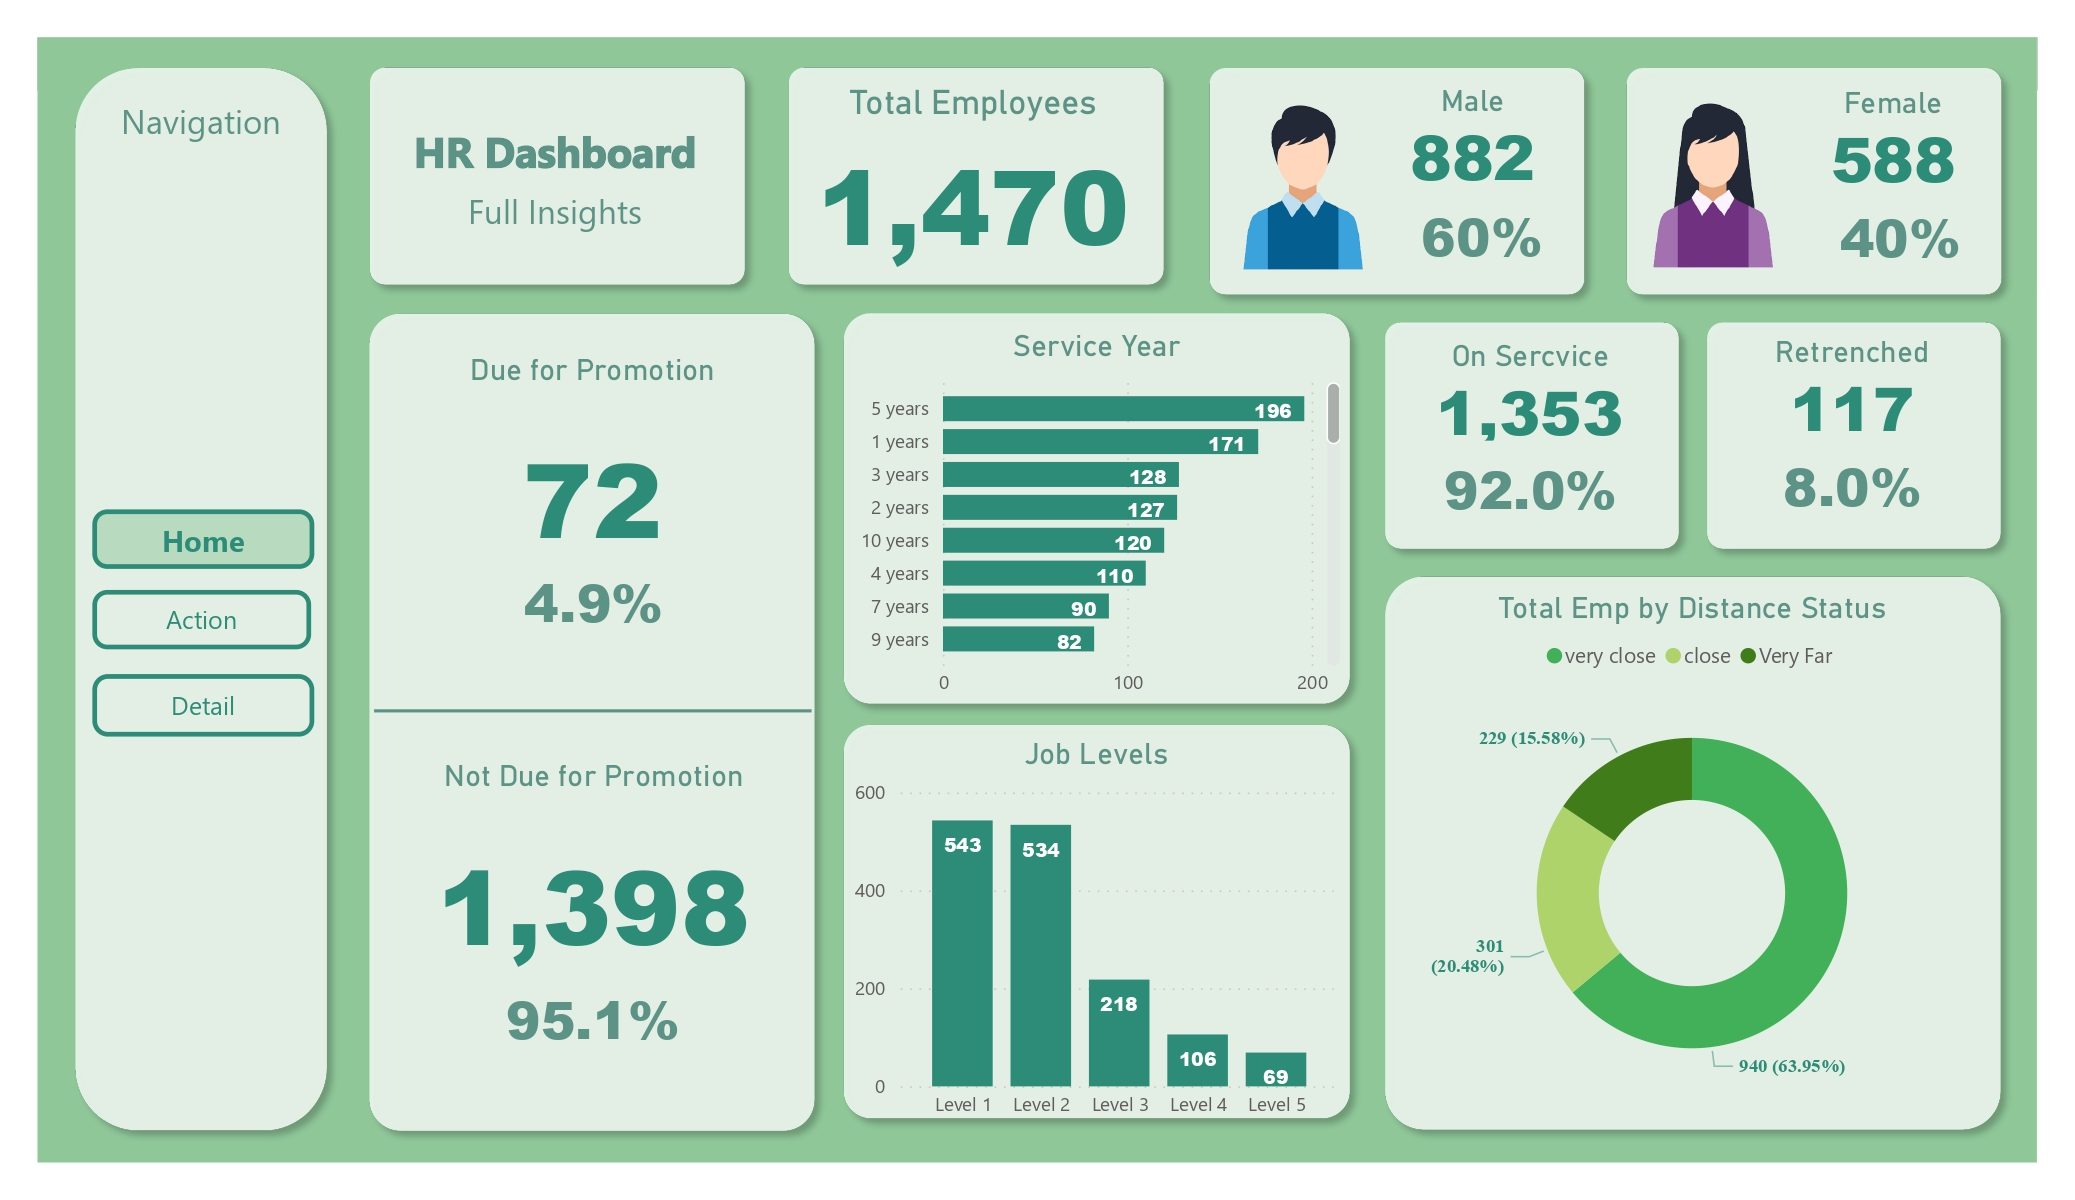

Layout of this report page (visuals, bound fields, positions):
{"tool":"powerbi","page":{"name":"Home","canvas":[1280,720],"ordinal":0},"visuals":[{"type":"shape","box":[15.2,10.5,179.1,697.8],"z":0},{"type":"shape","box":[203.7,10.5,257.6,156.9],"z":1000},{"type":"shape","box":[471.8,10.5,257.6,156.9],"z":2000},{"type":"shape","box":[741.1,10.5,257.6,162.7],"z":3000},{"type":"shape","box":[1008,10.5,257.6,162.7],"z":4000},{"type":"shape","box":[203.7,167.4,303.2,540.9],"z":5000},{"type":"shape","box":[506.9,167.4,341.9,268.1],"z":6000},{"type":"shape","box":[507.4,430.4,341.9,270.4],"z":7000},{"type":"shape","box":[853.5,173.3,206,162.7],"z":8000},{"type":"shape","box":[853.5,336,412.1,372.3],"z":9000},{"type":"shape","box":[1059.5,173.3,206,162.7],"z":10000},{"type":"textbox","box":[215.4,49.2,231.8,51.5],"z":11000},{"type":"textbox","box":[215.4,91.3,231.8,44.5],"z":12000},{"type":"card","title":"Total Employees","fields":{"Values":["All Measures.Total Emp"]},"box":[484.7,29.3,228.3,124.1],"z":13000},{"type":"card","title":"Male","fields":{"Values":["All Measures.Male"]},"box":[853.5,29.3,130,71.4],"z":14000},{"type":"card","title":"Male","fields":{"Values":["All Measures.% male"]},"box":[869.9,100.7,108.9,52.7],"z":15000},{"type":"card","title":"Female","fields":{"Values":["All Measures.Female"]},"box":[1122.9,30.8,130,71.4],"z":16000},{"type":"card","title":"Male","fields":{"Values":["All Measures.% female"]},"box":[1136.8,100.7,111.2,53.9],"z":17000},{"type":"image","box":[749.3,34,120.6,120.6],"z":18000},{"type":"image","box":[1019.7,34,103,119.4],"z":19000},{"type":"card","title":"Due for Promotion","fields":{"Values":["All Measures.Due for promotions"]},"box":[215.4,201.4,279.8,158],"z":20000},{"type":"card","title":"Male","fields":{"Values":["All Measures.% Due for promotion"]},"box":[216.6,320.8,278.6,80.8],"z":21000},{"type":"card","title":"Not Due for Promotion","fields":{"Values":["All Measures.Not due"]},"box":[216.6,461.3,278.6,158],"z":22000},{"type":"card","title":"Male","fields":{"Values":["All Measures.% Not due"]},"box":[215.4,601.8,279.8,52.7],"z":23000},{"type":"shape","box":[215.4,414.4,279.8,32.8],"z":24000},{"type":"barChart","title":"Service Year","fields":{"Category":["HR Analytics Data.Service year"],"Y":["All Measures.Total Emp"]},"box":[517.5,186.1,320.8,244.7],"z":25000},{"type":"columnChart","title":"Job Levels","fields":{"Y":["All Measures.Total Emp"],"Category":["HR Analytics Data.Job Levels"]},"box":[517.5,447.2,320.8,254],"z":26000},{"type":"card","title":"On Sercvice","fields":{"Values":["All Measures.On Service"]},"box":[865.2,192,180.3,71.4],"z":27000},{"type":"card","title":"Male","fields":{"Values":["All Measures.% On service"]},"box":[865.2,262.2,181.5,53.9],"z":28000},{"type":"card","title":"Retrenched","fields":{"Values":["All Measures.Will be Retrenched"]},"box":[1070.9,189.8,180.3,71.4],"z":29000},{"type":"card","title":"Male","fields":{"Values":["All Measures.% Will be Retrenched"]},"box":[1070.9,260.1,181.5,53.9],"z":30000},{"type":"donutChart","fields":{"Category":["HR Analytics Data.Distance Status"],"Y":["All Measures.Total Emp"]},"box":[869.9,353.6,378.1,337.2],"z":31000},{"type":"textbox","box":[34,34,141.7,41],"z":32000},{"type":"actionButton","box":[34.7,302.1,142.4,38.4],"z":33000},{"type":"actionButton","box":[34.7,354,139.9,38.4],"z":34000},{"type":"actionButton","box":[34.7,407.3,142.4,39.6],"z":35000}]}

Visuals, with their boxes on the page's 1280x720 design canvas (x1, y1, x2, y2). These are canvas units, not pixel positions in the 2075x1200 screenshot, which may show the page scaled, cropped or inside an application window:
shape: (15,10,194,708)
shape: (204,10,461,167)
shape: (472,10,729,167)
shape: (741,10,999,173)
shape: (1008,10,1266,173)
shape: (204,167,507,708)
shape: (507,167,849,436)
shape: (507,430,849,701)
shape: (854,173,1060,336)
shape: (854,336,1266,708)
shape: (1060,173,1266,336)
textbox: (215,49,447,101)
textbox: (215,91,447,136)
"Total Employees" card: (485,29,713,153)
"Male" card: (854,29,984,101)
"Male" card: (870,101,979,153)
"Female" card: (1123,31,1253,102)
"Male" card: (1137,101,1248,155)
image: (749,34,870,155)
image: (1020,34,1123,153)
"Due for Promotion" card: (215,201,495,359)
"Male" card: (217,321,495,402)
"Not Due for Promotion" card: (217,461,495,619)
"Male" card: (215,602,495,654)
shape: (215,414,495,447)
"Service Year" barChart: (518,186,838,431)
"Job Levels" columnChart: (518,447,838,701)
"On Sercvice" card: (865,192,1046,263)
"Male" card: (865,262,1047,316)
"Retrenched" card: (1071,190,1251,261)
"Male" card: (1071,260,1252,314)
donutChart - HR Analytics Data.Distance Status x All Measures.Total Emp: (870,354,1248,691)
textbox: (34,34,176,75)
actionButton: (35,302,177,340)
actionButton: (35,354,175,392)
actionButton: (35,407,177,447)
